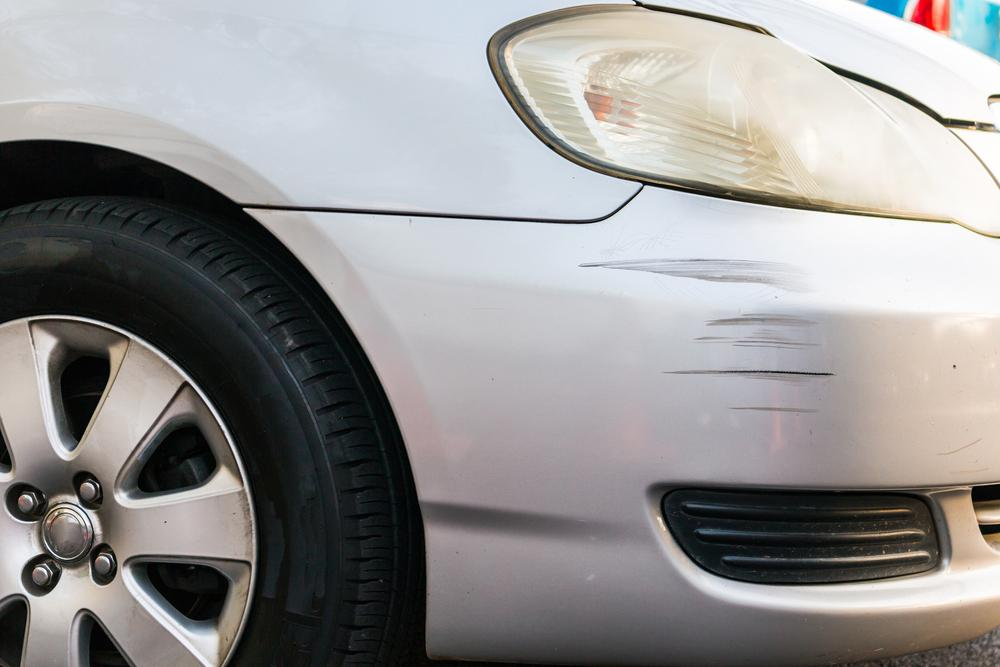scratch: (572, 253, 838, 425)
